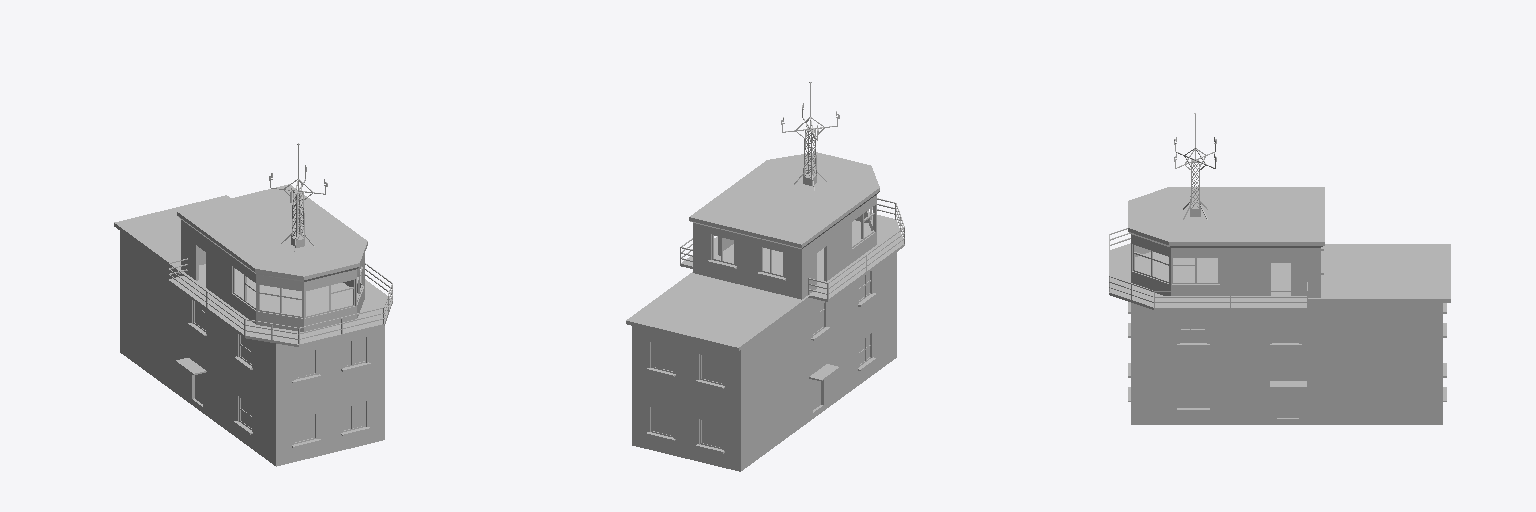
The model's file is tower_noDW.obj.
3 renders of one model, left to right at view 1: azimuth 30°, elevation 25°; view 2: azimuth 150°, elevation 25°; view 3: azimuth 270°, elevation 25°, orthographic.
Parts seen in each view (by area): view 1: tower, tower.001; view 2: tower.001, tower; view 3: tower, tower.001.
Part boxes in pixels (left/top/right/bottom): tower: left=114, top=143, right=392, bottom=466; tower.001: left=114, top=179, right=392, bottom=465; tower.001: left=626, top=82, right=904, bottom=468; tower: left=626, top=82, right=904, bottom=471; tower: left=1109, top=113, right=1450, bottom=424; tower.001: left=1109, top=114, right=1450, bottom=424.
Bounding box in the file's own units: 8.43 × 15.55 × 16.88.